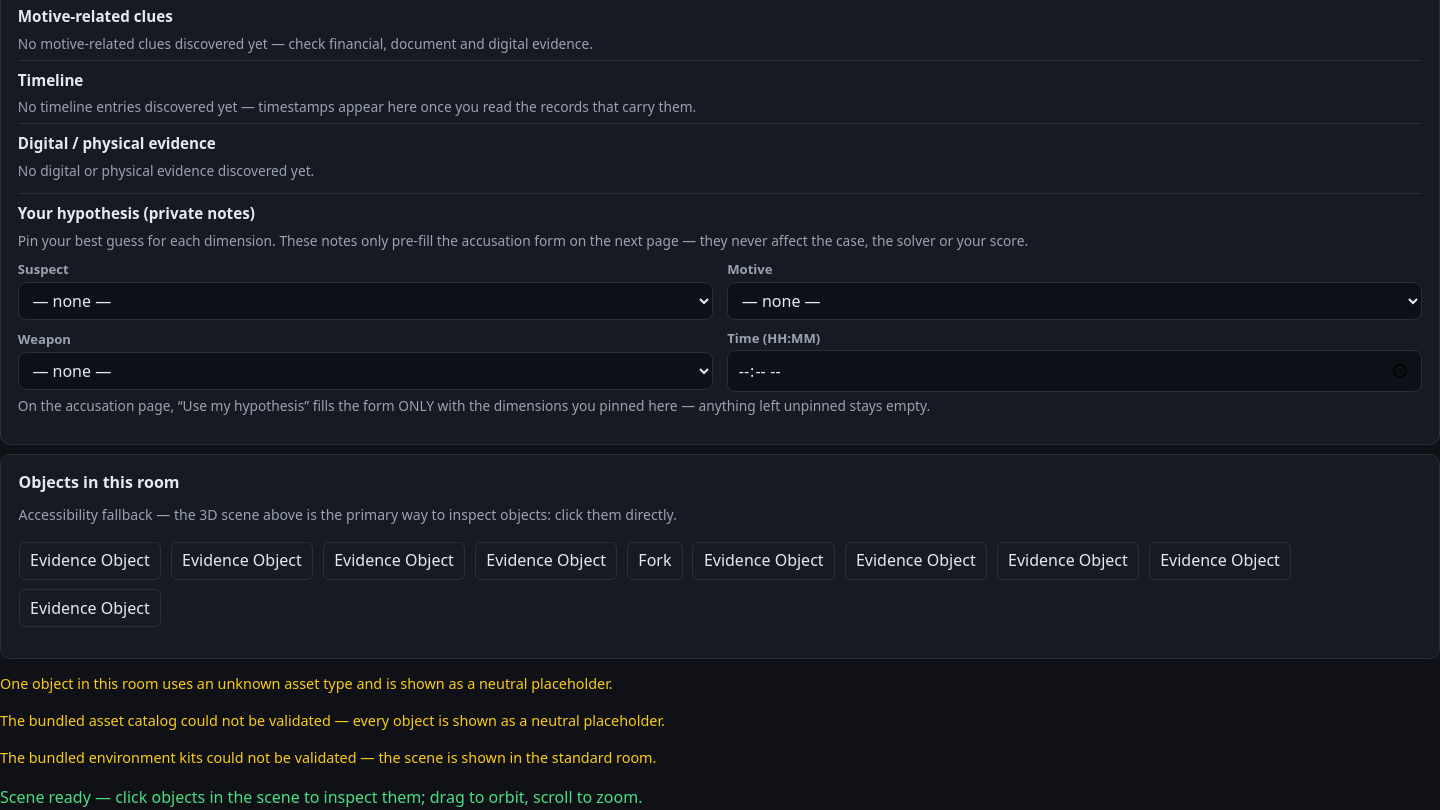
Test: Phase 19F — /scene accessibility fallback (universal inspectable buttons) › Phase 19J — clicking the LAPTOP discovers its evidence ONCE (counter/strip/panel) and a repeat click is idempotent (§29)
This screenshot has width=1440, height=810.
(page scrolled)
Click the 3rd button "Evidence Object" at (394, 561), box [323,542,465,580]
(page scrolled)
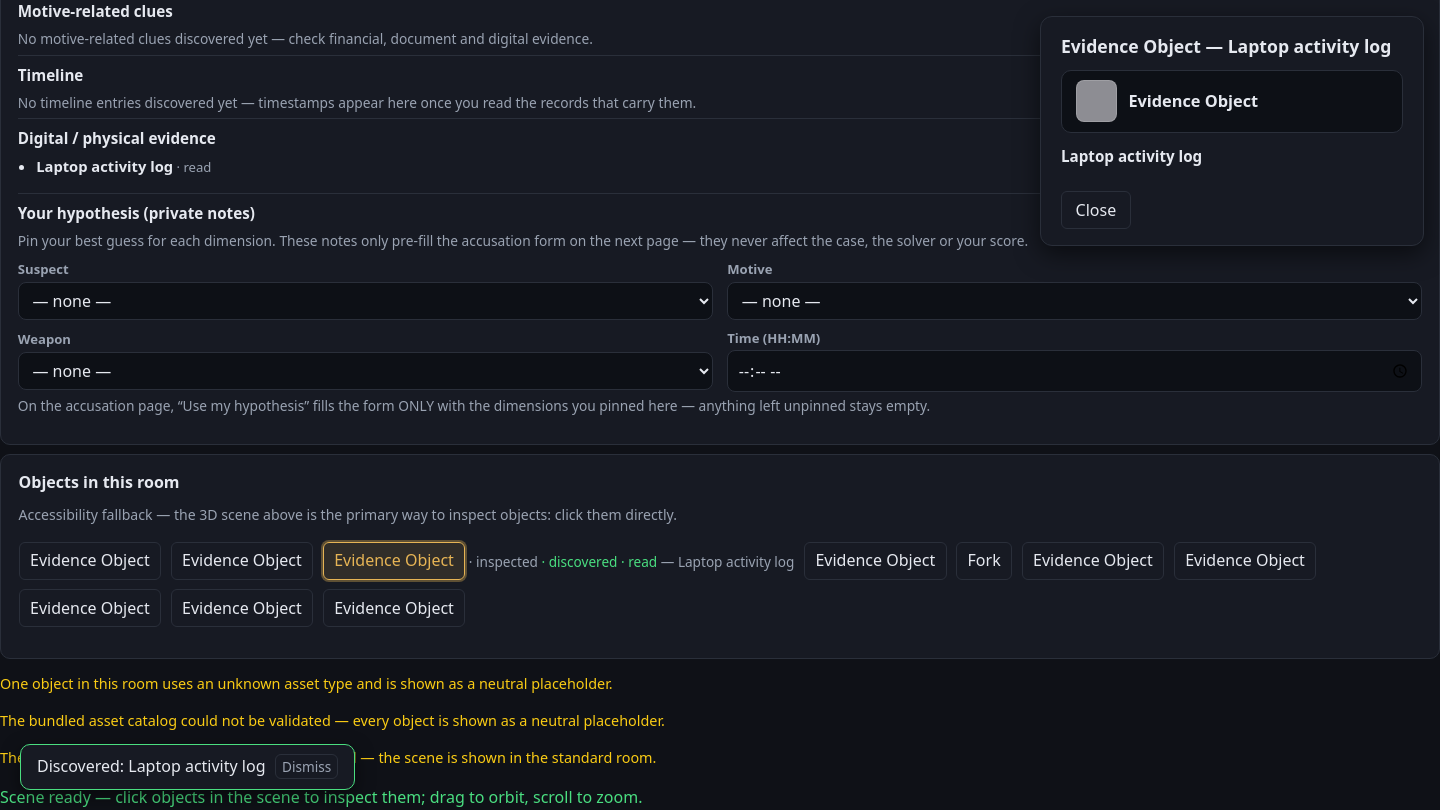
Expected: the text with test id "discovery-toast-text" reads "Discovered: Laptop activity log", [37,756,266,778]
Expected: the dialog with test id "evidence-panel" is shown, [1040,16,1424,246]
Click the button "Evidence Object" next to "· inspected" at (394, 561), box [323,542,465,580]
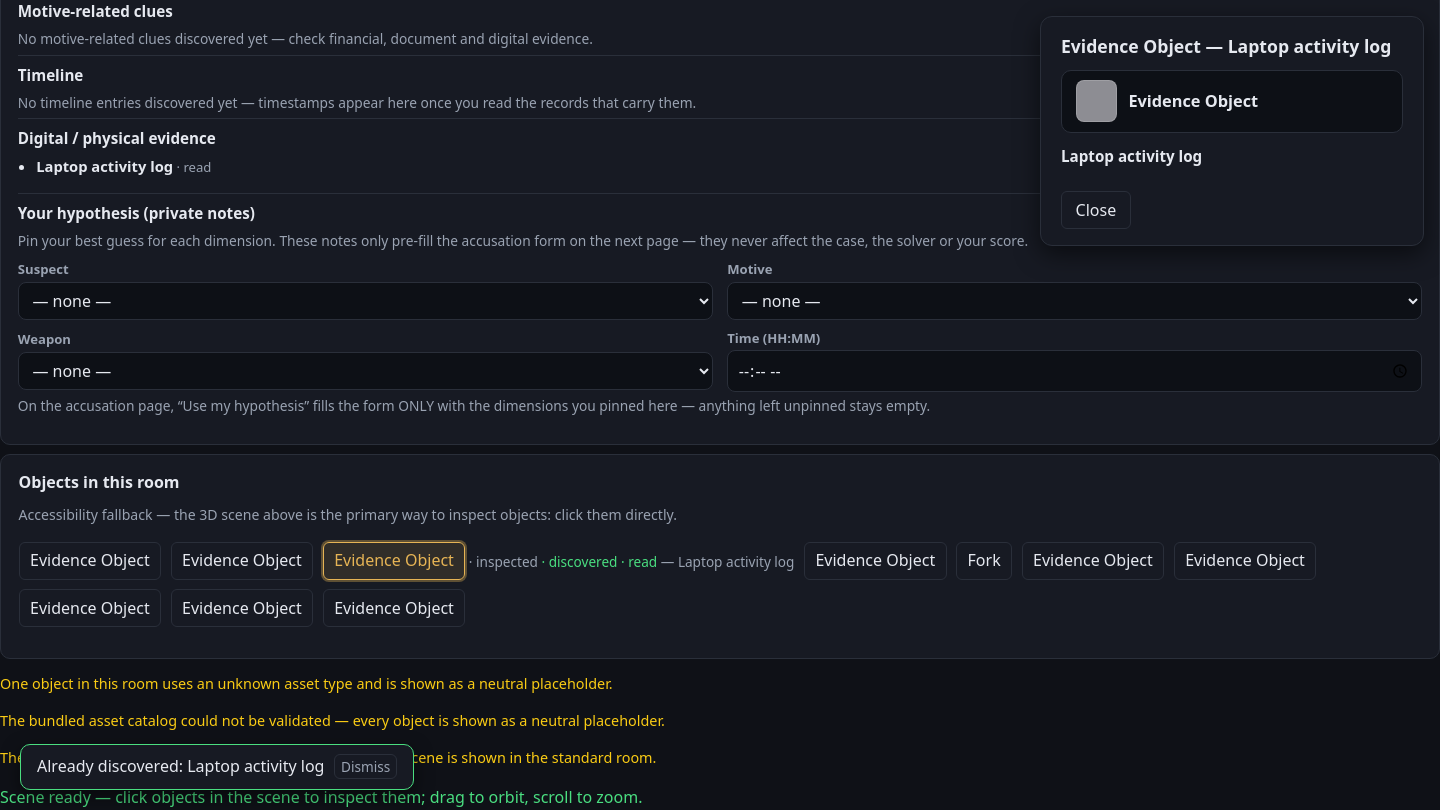
Expected: the dialog with test id "evidence-panel" is shown, [1040,16,1424,246]
Expected: the text with test id "discovery-toast-text" reads "Already discovered: Laptop activity log", [37,756,324,778]
